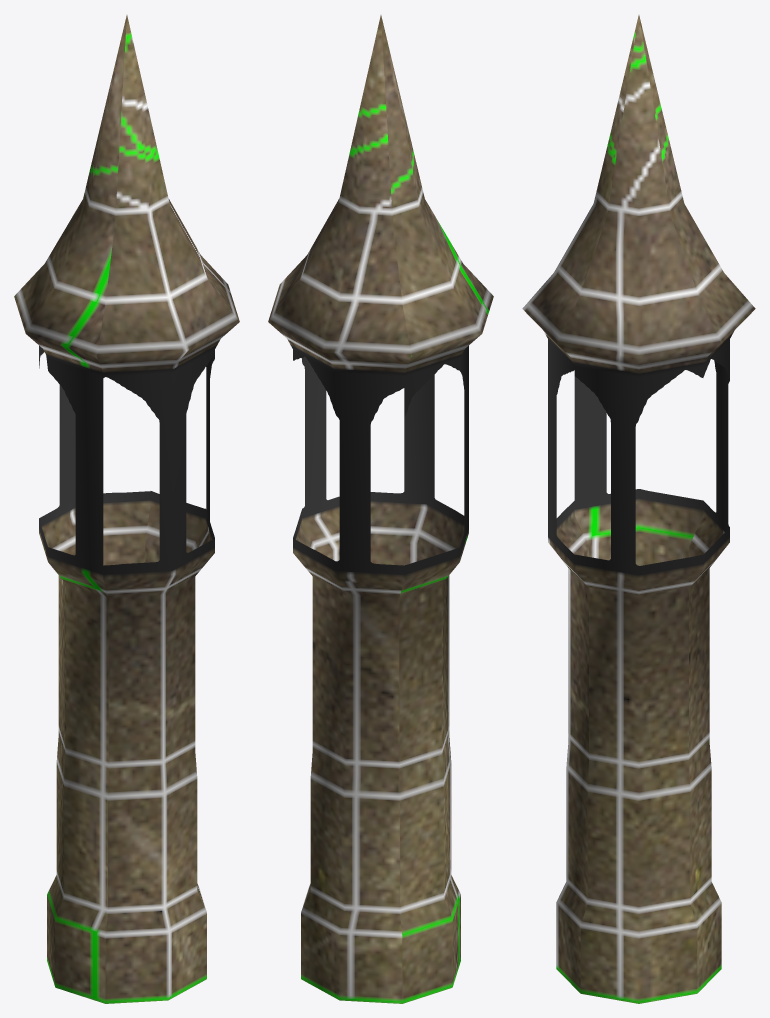
File: lantern_dead.obj
The picture shows the model from 3 angles, left to right: view 1: azimuth 30°, elevation 25°; view 2: azimuth 150°, elevation 25°; view 3: azimuth 270°, elevation 25°; orthographic projection.
Parts seen in each view (by area): view 1: Cone001; view 2: Cone001; view 3: Cone001.
Boxes of the visible parts, x1=… form: Cone001: x1=14, y1=15, x2=239, y2=1003; Cone001: x1=268, y1=15, x2=493, y2=1003; Cone001: x1=522, y1=15, x2=755, y2=1003.
Size of the model in its own units: 406 by 1830 by 406.
1 material, 1 textured.
